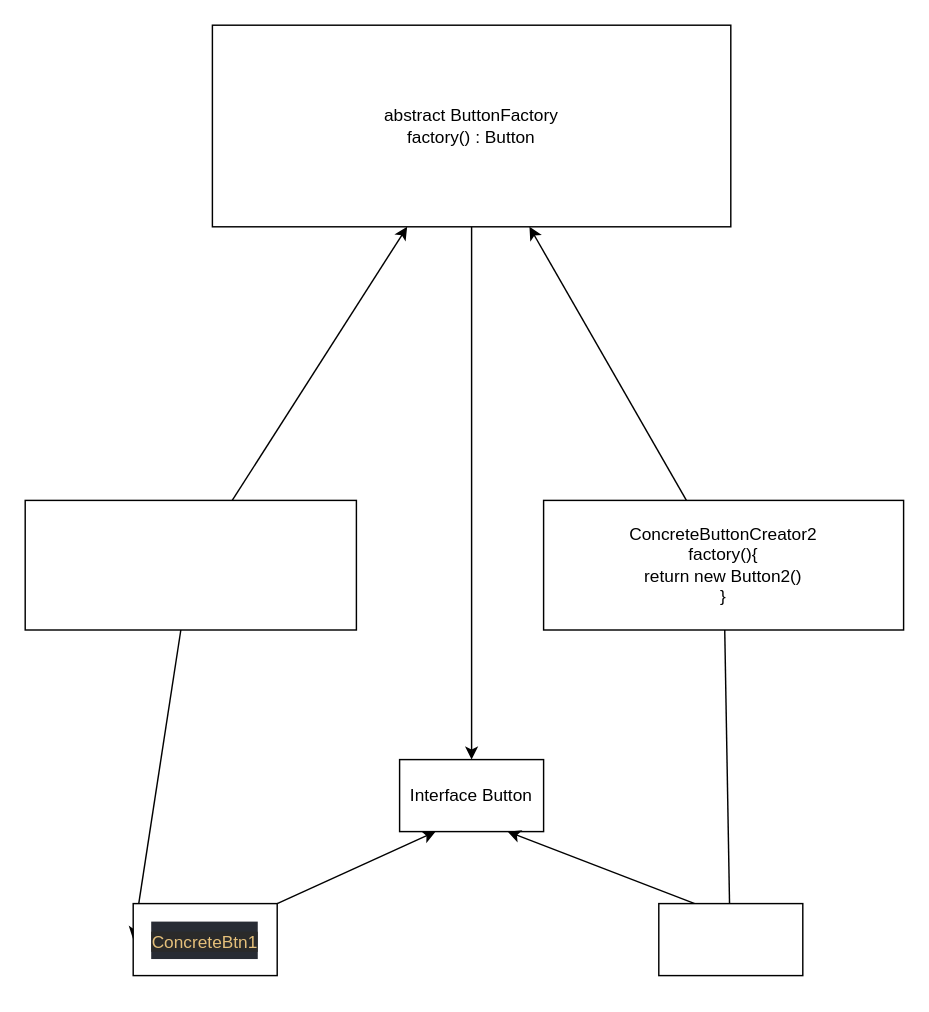
Image size: 929x1012. Some labels were removed from this diagram. Each missing label, with the centre of its shape:
"ConcreteBtn2" belongs at (730,939).
"ConcreteButtonCreator1 factory(){ return new Button1() }" belongs at (190,564).
